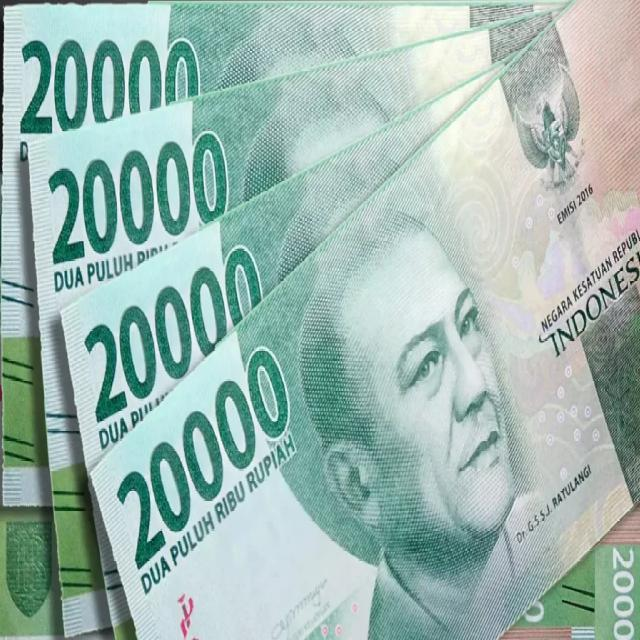dua puluh ribu rupiah: (92, 0, 640, 640), (27, 4, 574, 638), (59, 32, 544, 640), (2, 0, 574, 510)
